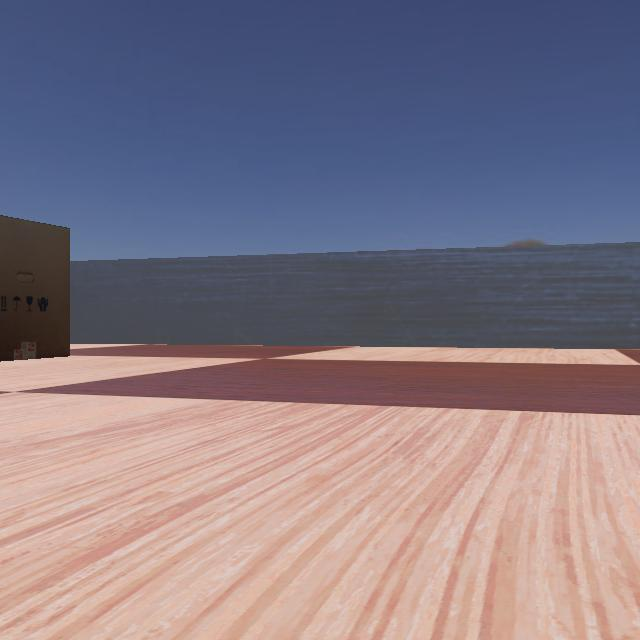cardboard-box: (0, 208, 80, 364)
